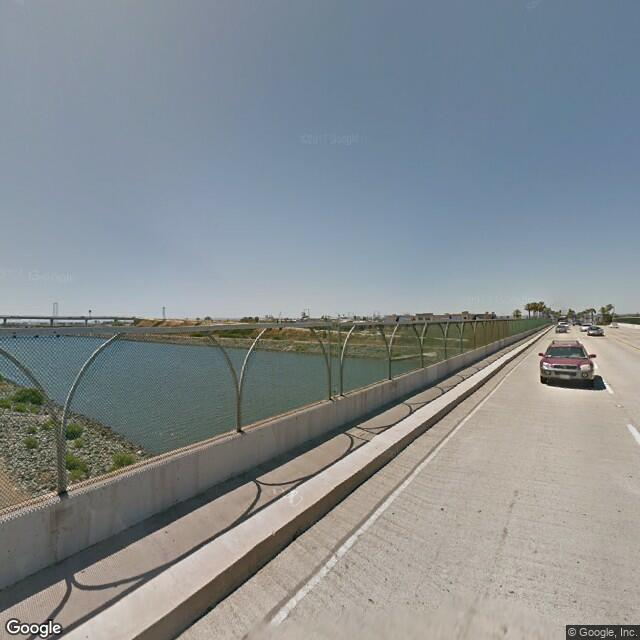litter: (135, 450, 145, 456)
